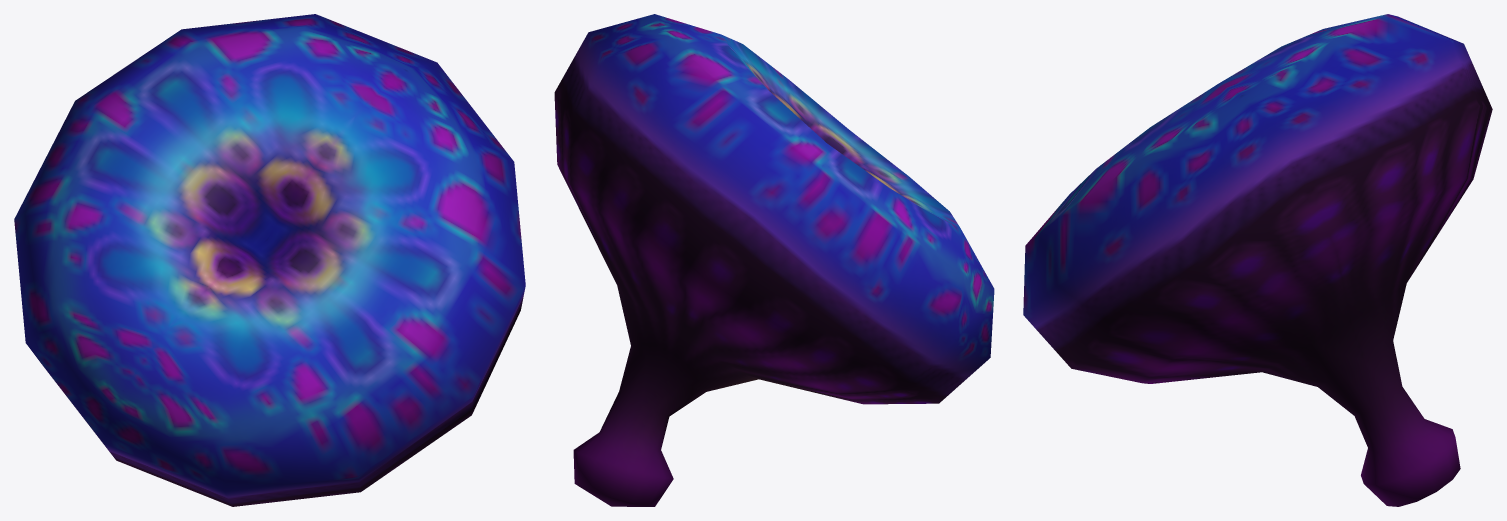
File: Mushroom_05a.FBX
The picture shows the model from 3 angles, left to right: view 1: azimuth 30°, elevation 25°; view 2: azimuth 150°, elevation 25°; view 3: azimuth 270°, elevation 25°; orthographic projection. The views are drawn at different scales.
Parts seen in each view (by area): view 1: Mushroom_05a; view 2: Mushroom_05a; view 3: Mushroom_05a.
Part boxes in pixels (<box>): Mushroom_05a: <box>14,14,525,506</box>; Mushroom_05a: <box>554,14,994,506</box>; Mushroom_05a: <box>1023,14,1492,506</box>.
Size of the model in its own units: 110 by 111 by 104.
